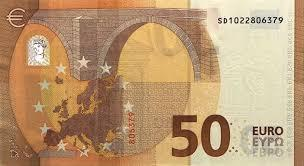euro_banknote: (1, 1, 295, 166)
